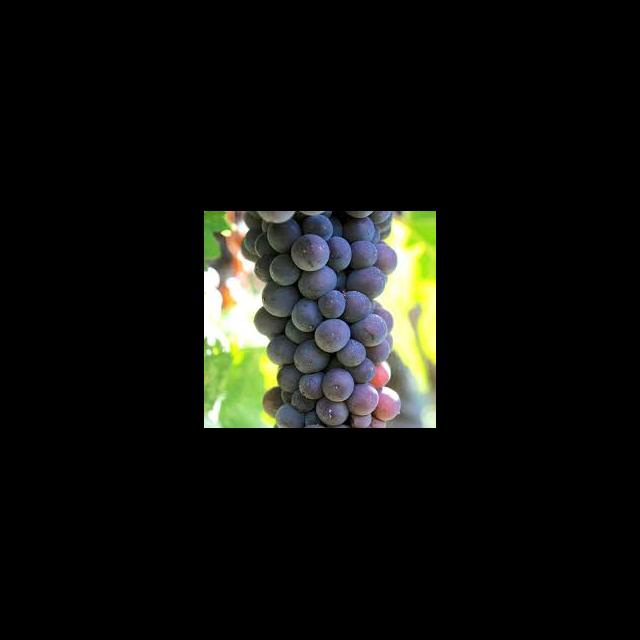grape: (240, 212, 401, 428)
